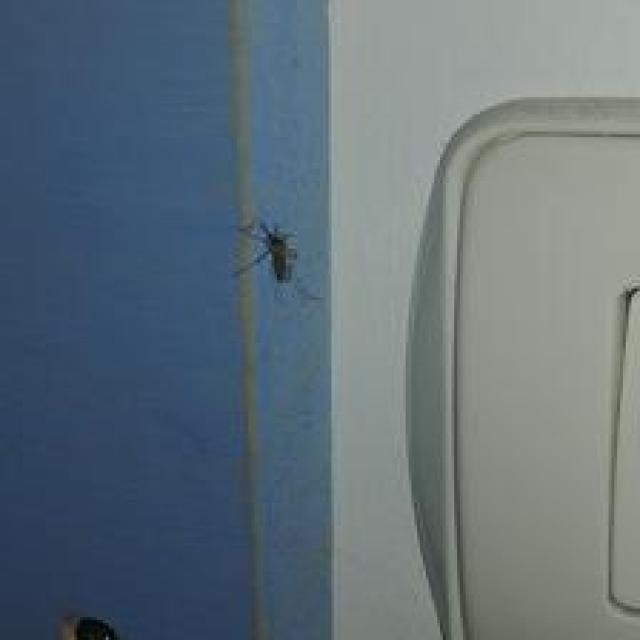Culex: (56, 614, 121, 640)
